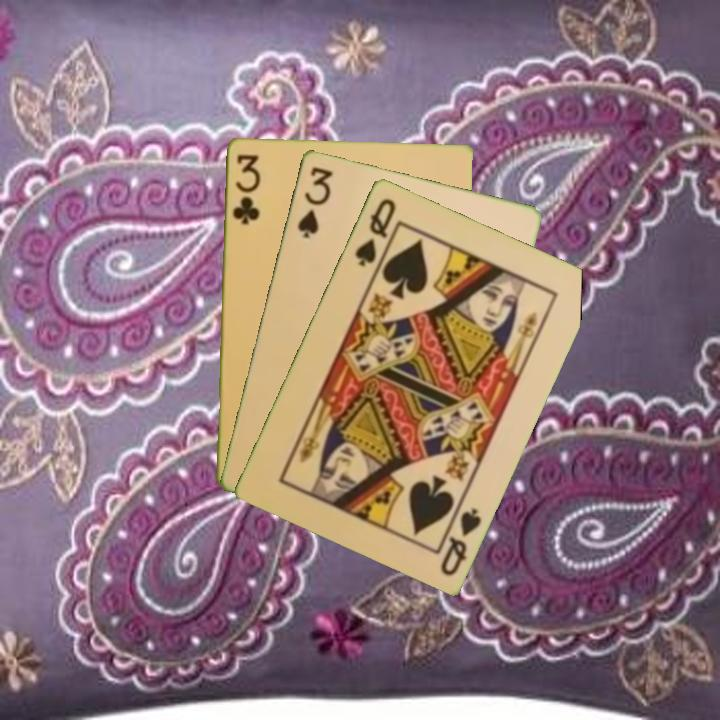3c: (228, 150, 263, 227)
3s: (293, 162, 335, 241)
Qs: (434, 496, 484, 579), (351, 194, 399, 269)
